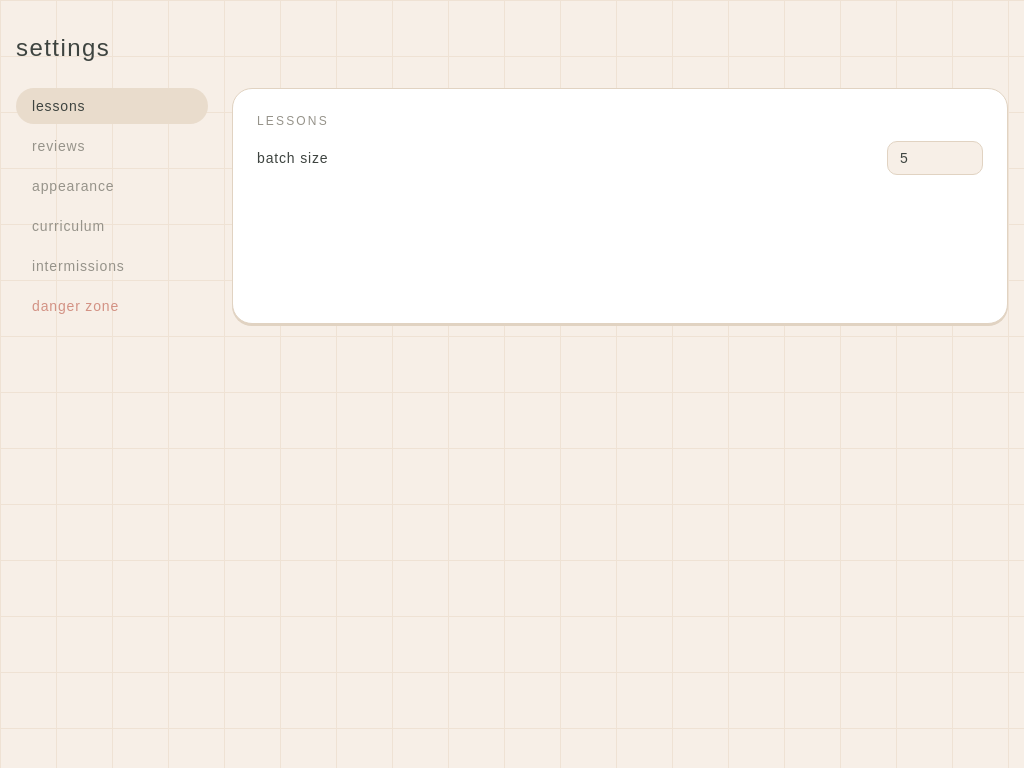
Test case: Settings sidebar › defaults to lessons and switches panels on sidebar click
The width and height of the screenshot is (1024, 768).
Expected: the text "batch size" is shown, [257,150,328,166]
# switch to appearance → theme control appears
Click the button "appearance": click(112, 186) [16,168,208,204]
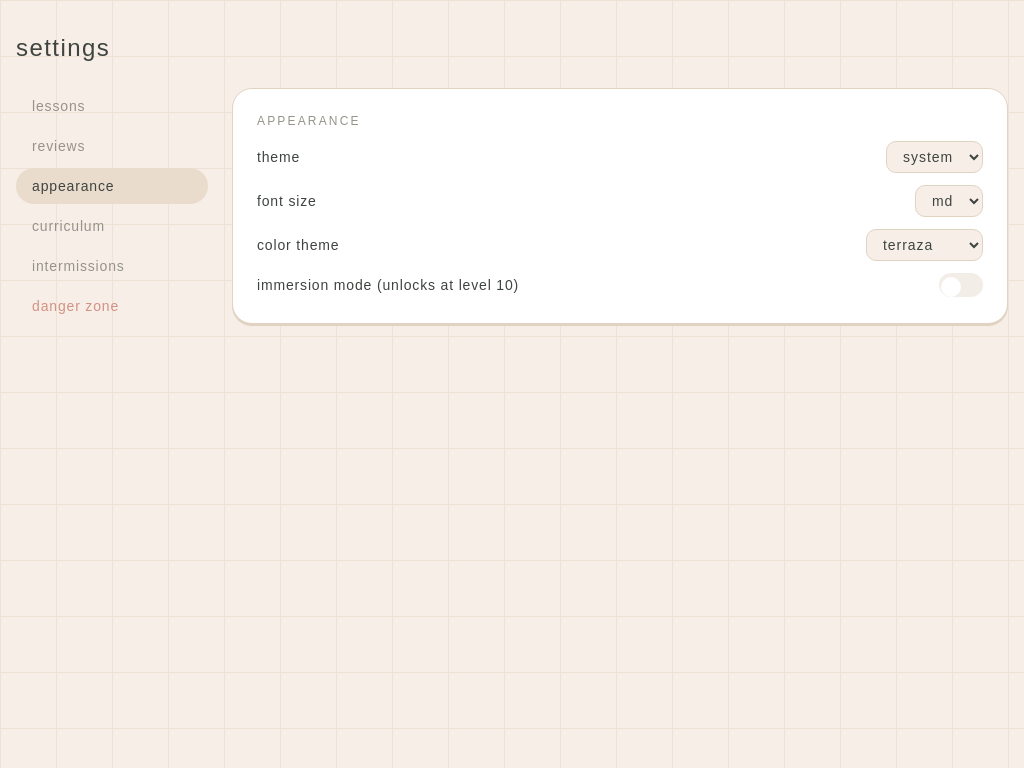
Expected: the text "theme" is shown, [257,149,300,165]
# danger zone → log out + delete controls
Click the button "danger zone": click(112, 306) [16,288,208,324]
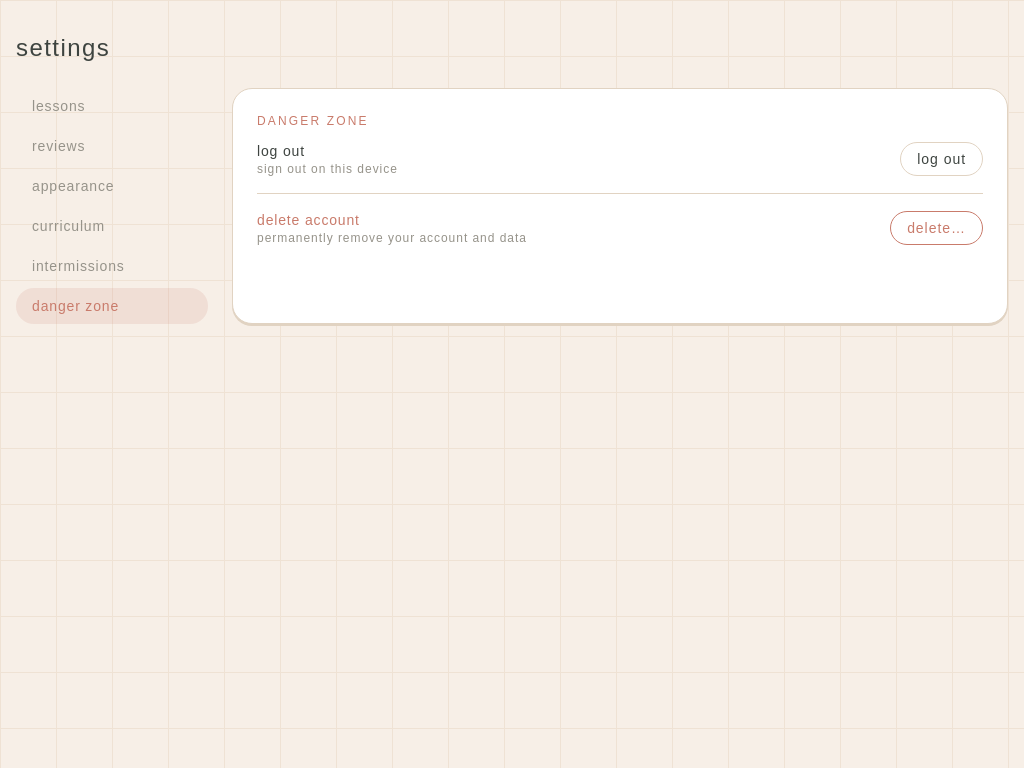
Expected: the button "log out" is shown, [900,142,983,176]
Expected: the text "delete account" is shown, [257,212,360,228]
